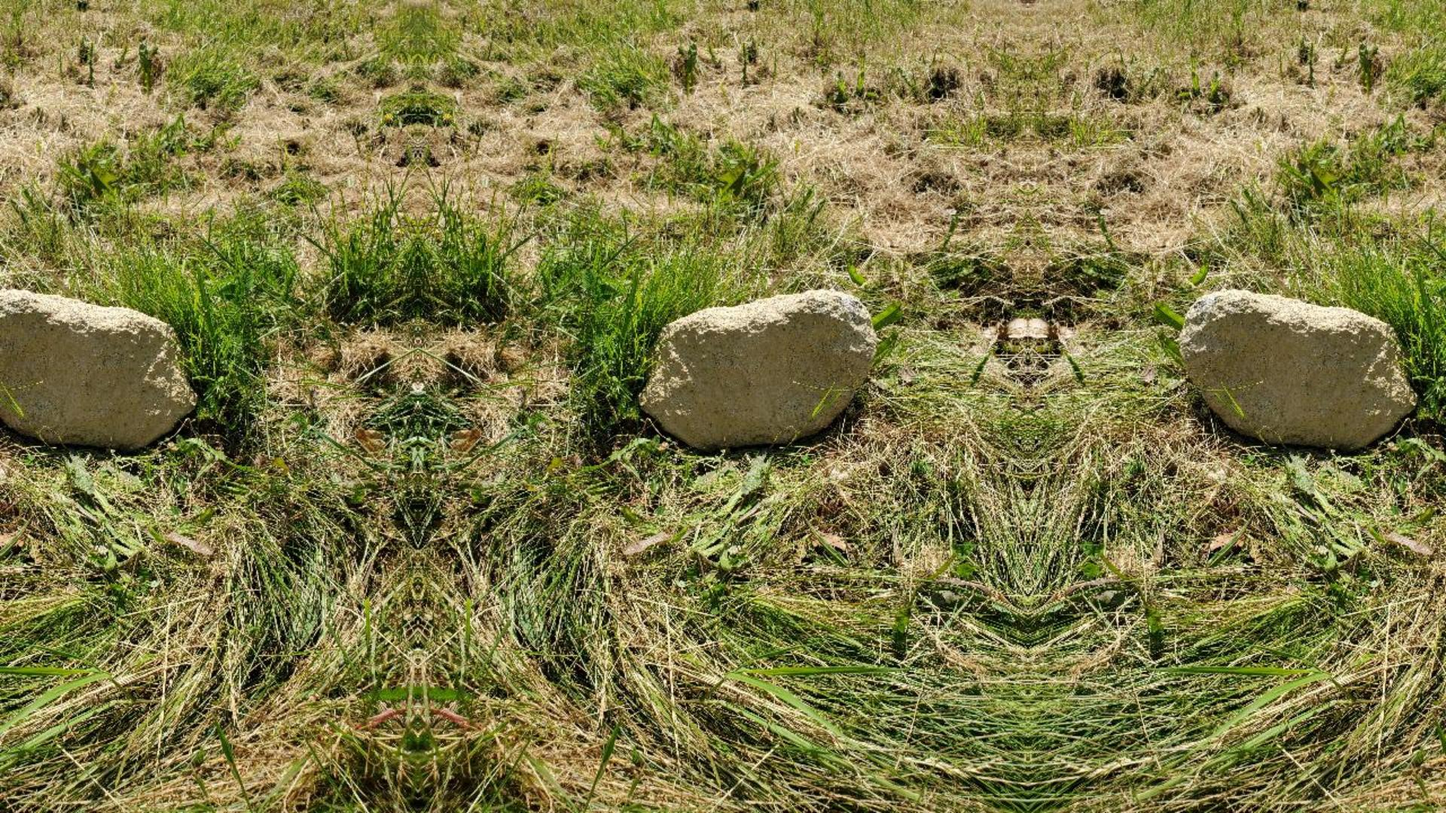rock: (1178, 290, 1414, 449), (641, 290, 877, 448), (0, 289, 194, 448)
